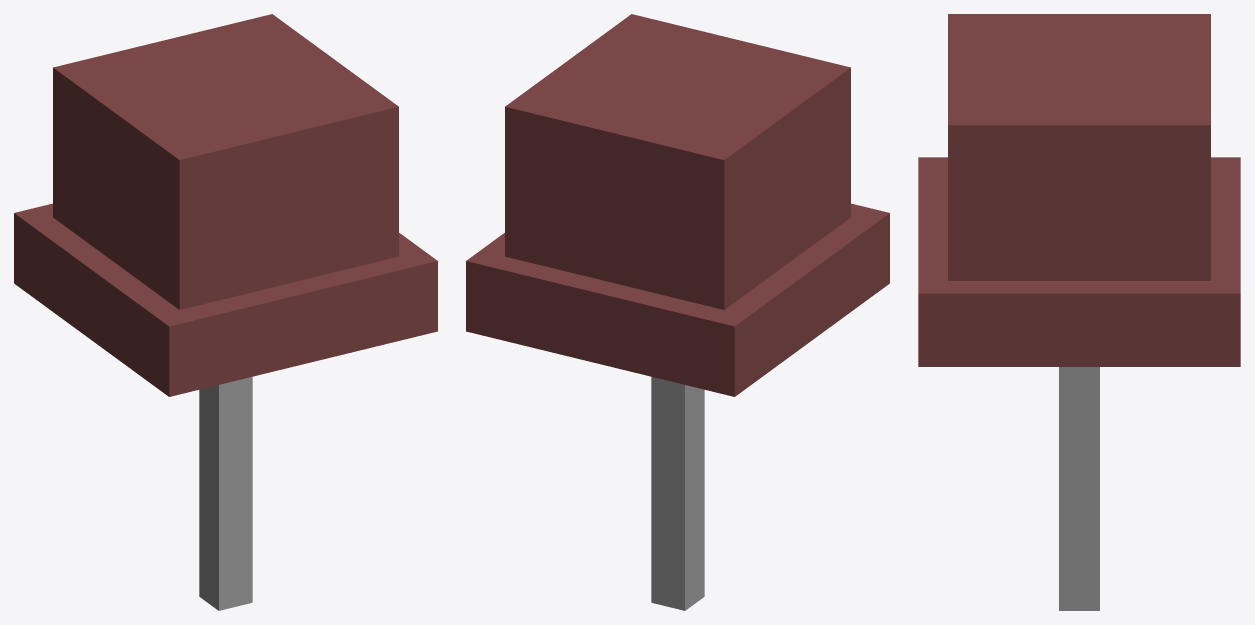
Rendered from MushroomSmall1.fbx.
3 views of the same model, side by side, from view 1: azimuth 30°, elevation 25°; view 2: azimuth 150°, elevation 25°; view 3: azimuth 270°, elevation 25° (orthographic). The views are drawn at different scales.
Parts seen in each view (by area): view 1: MushroomSmall1; view 2: MushroomSmall1; view 3: MushroomSmall1.
Boxes of the visible parts, box(x1,y1,x2,y2) form: MushroomSmall1: box(14, 14, 437, 610); MushroomSmall1: box(466, 14, 889, 610); MushroomSmall1: box(918, 14, 1240, 610).
Size of the model in its own units: 3.67 by 6.7 by 3.67.
